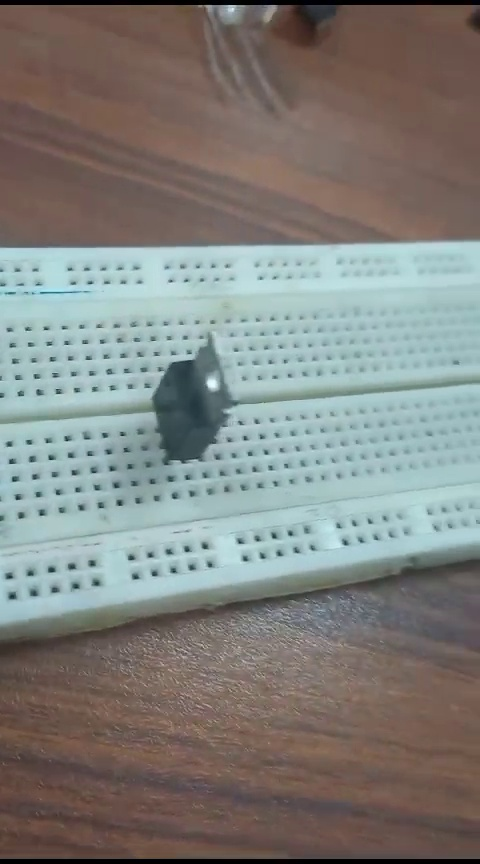voltage regulator: (136, 328, 236, 472)
